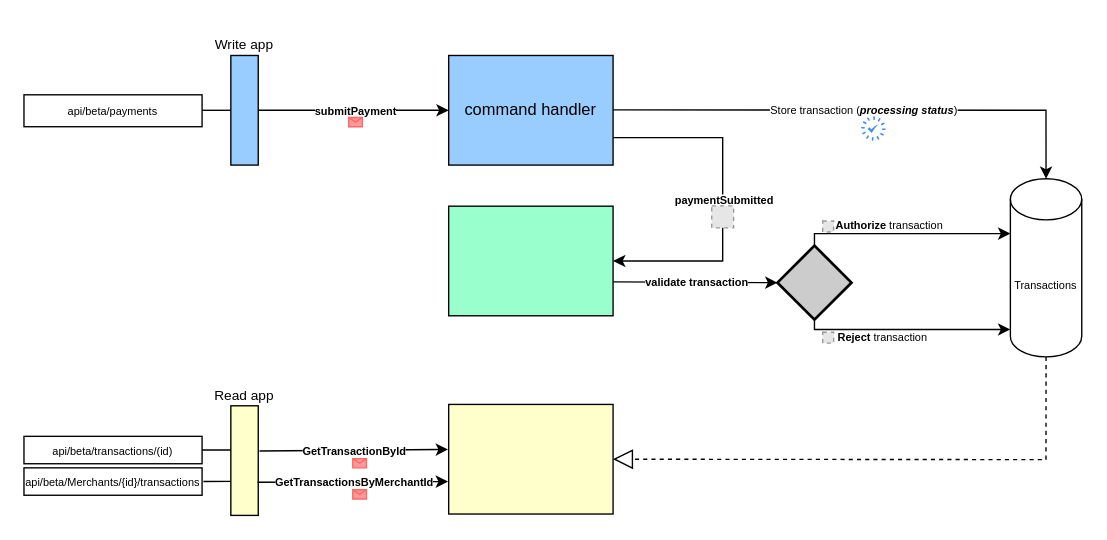
Image size: 1107x540. Some labels were removed from this diagram. Grey dashed boxes stand in for pictures. Each missing label, with the centre of its shape:
"Bank authorization" belongs at (x=813, y=282).
"event handler" belongs at (x=530, y=260).
"Query handler" belongs at (x=530, y=458).
